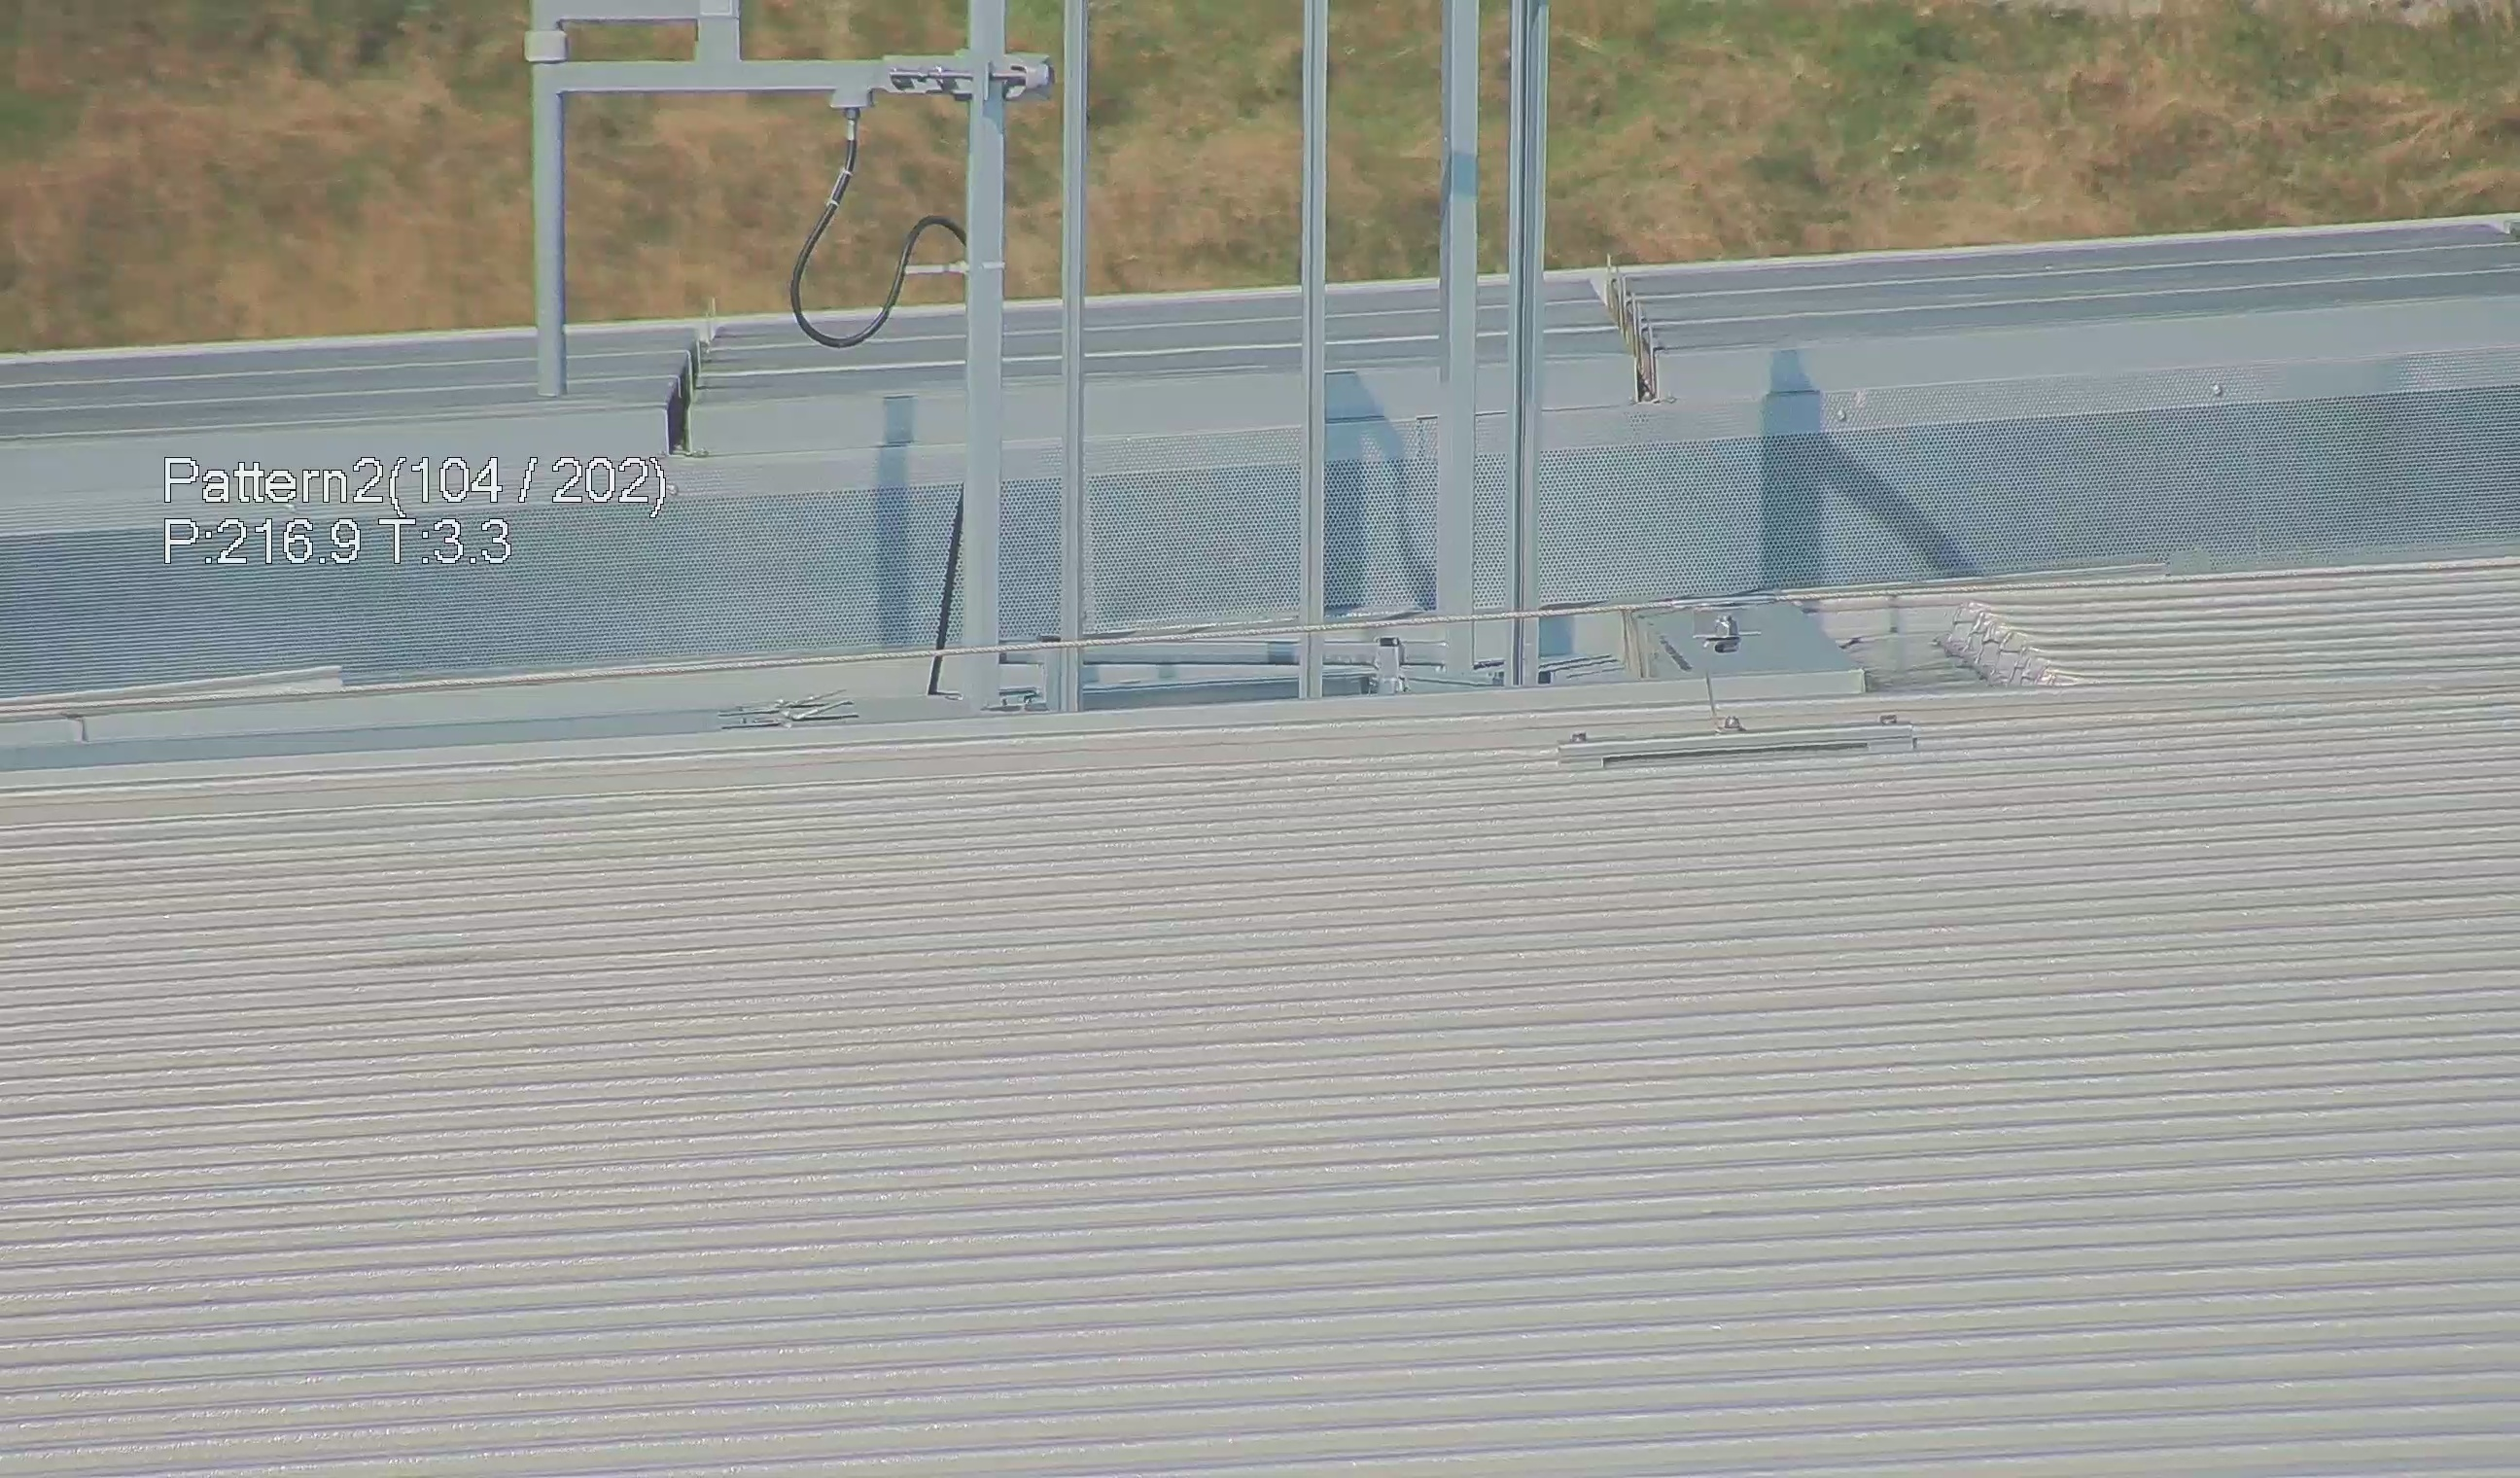Other: (1947, 605, 2084, 702)
